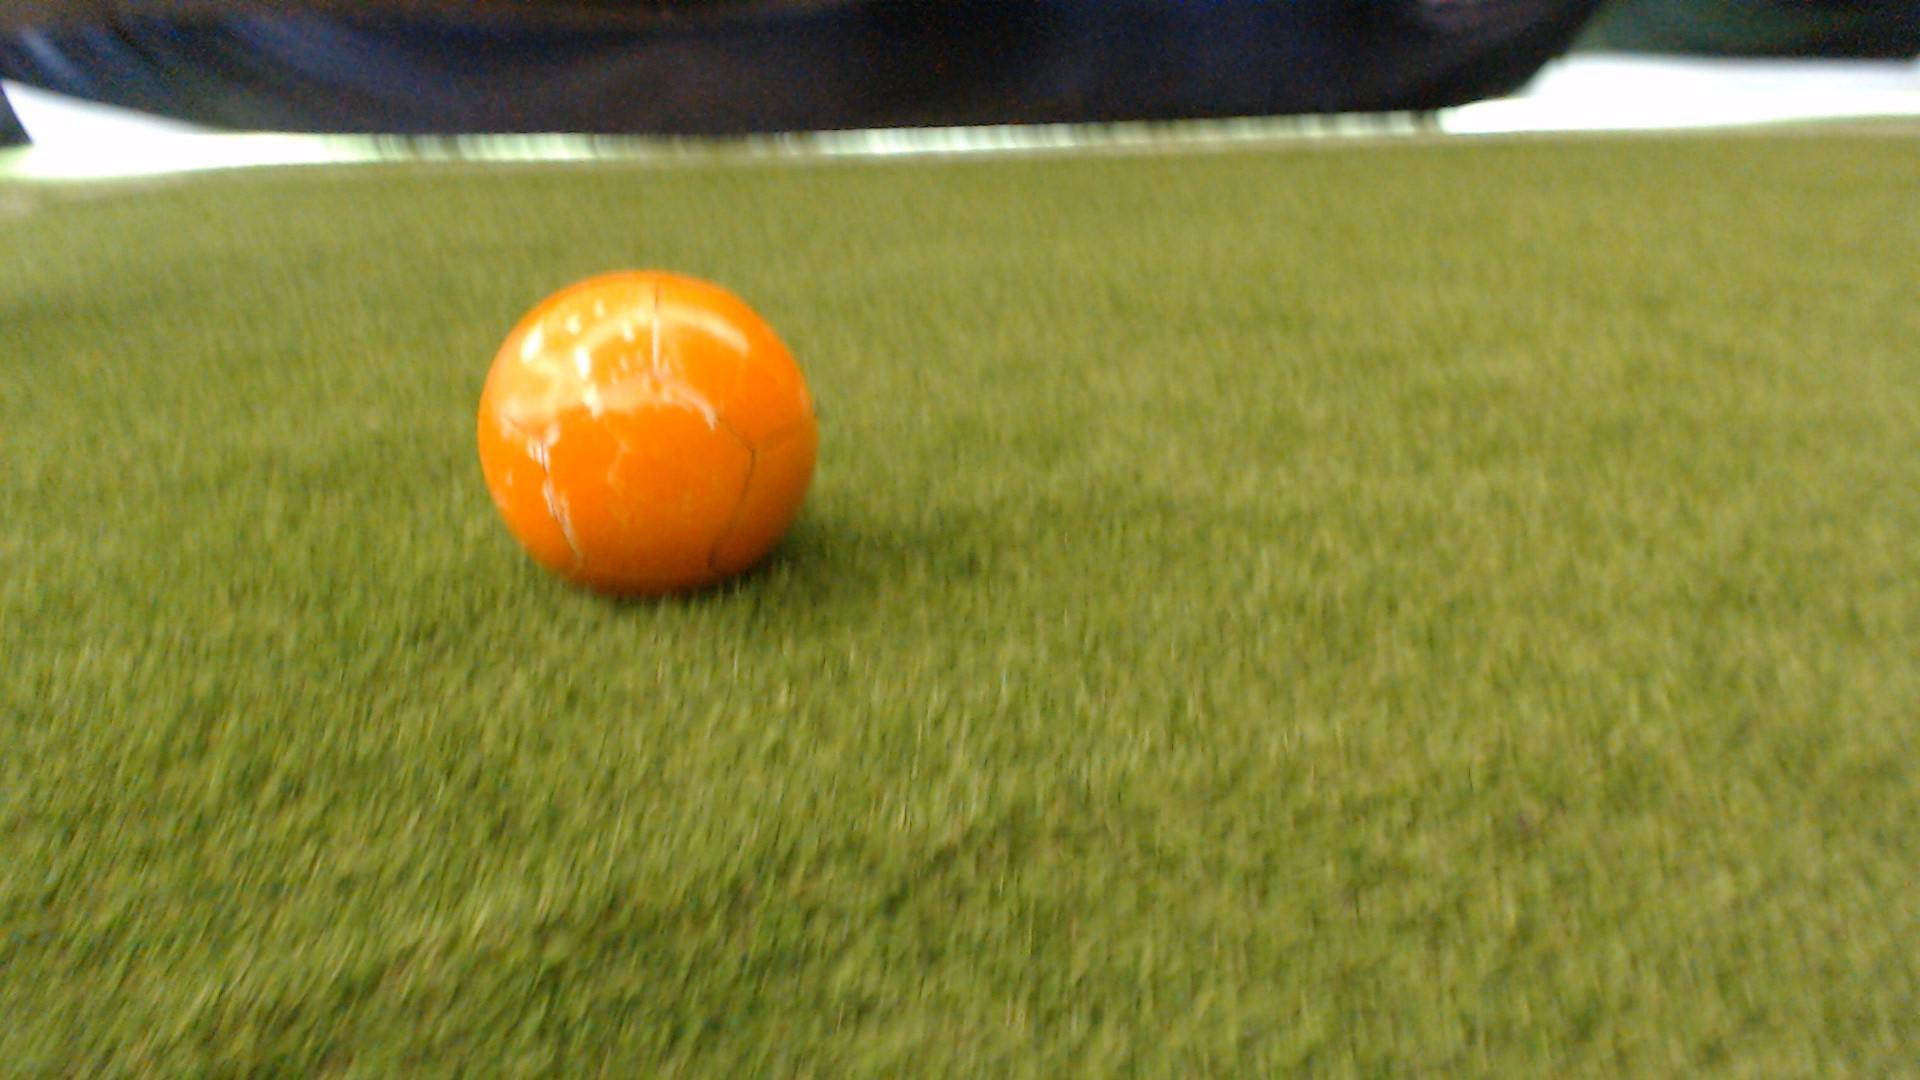bola: (462, 243, 852, 621)
